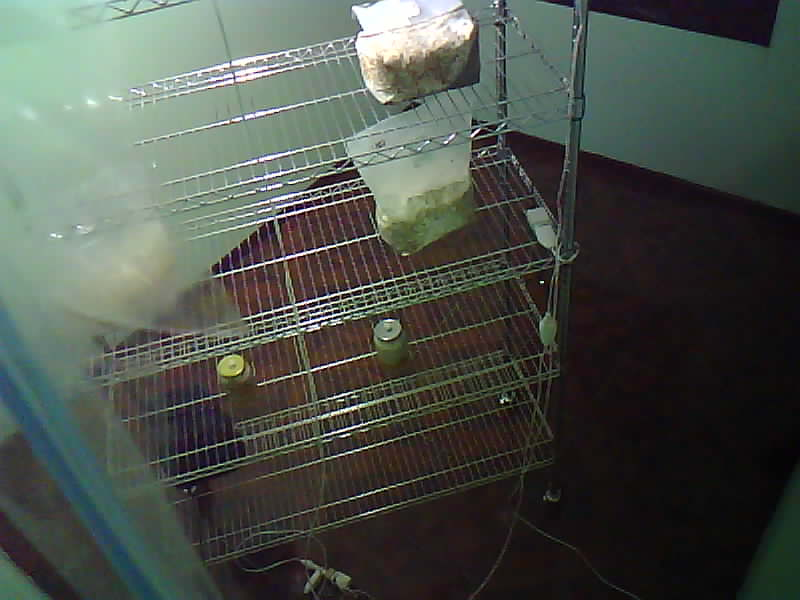bloco: (307, 109, 498, 259), (321, 36, 508, 109)
